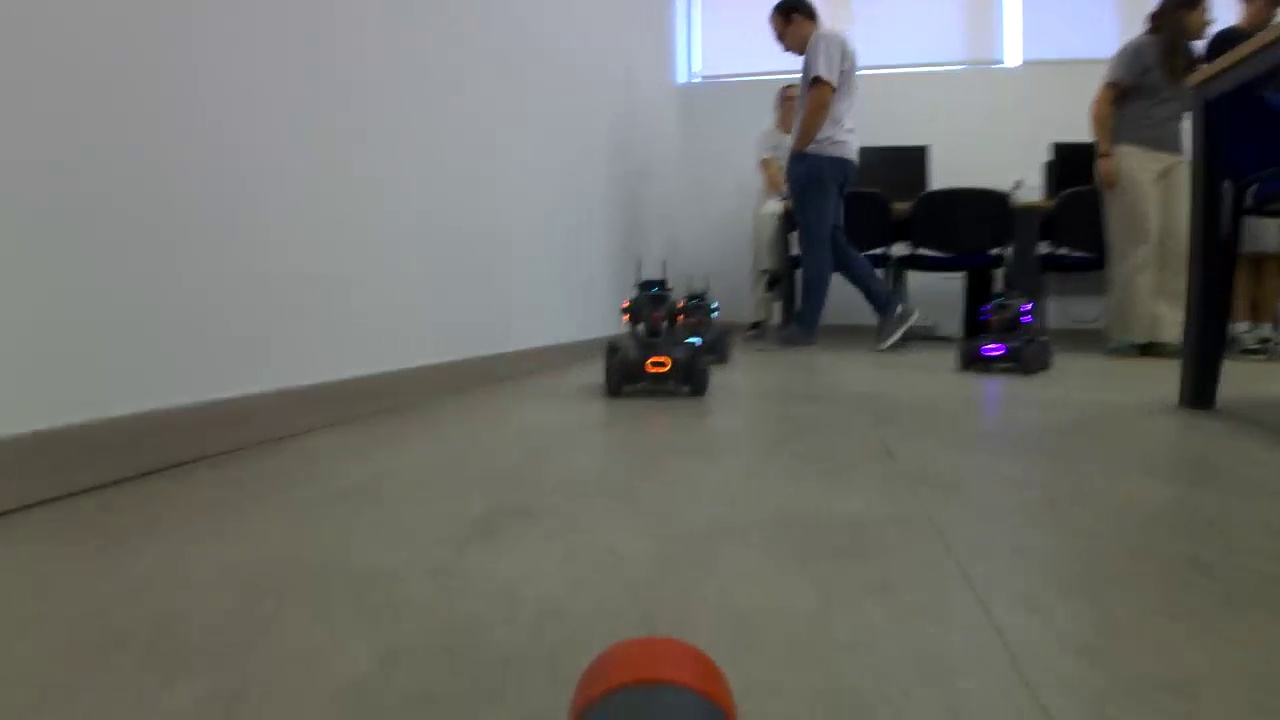robot: (600, 302, 710, 397), (955, 290, 1053, 365), (683, 280, 748, 355)
